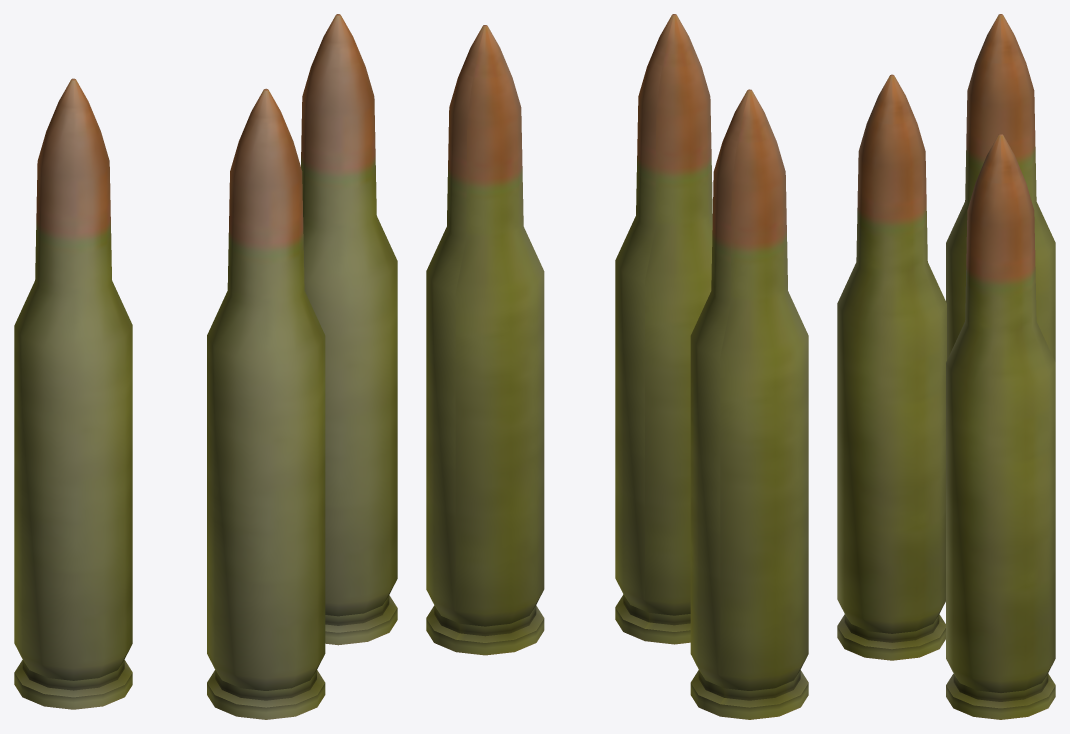
The model's file is bullet_pickup.fbx.
3 renders of one model, left to right at view 1: azimuth 30°, elevation 25°; view 2: azimuth 150°, elevation 25°; view 3: azimuth 270°, elevation 25°, orthographic. The views are drawn at different scales.
Visible parts, largest first — view 1: polySurface1; view 2: polySurface1; view 3: polySurface1.
Boxes of the visible parts, x1,y1,x2,y2 form: polySurface1: (14, 14, 397, 719); polySurface1: (426, 14, 808, 719); polySurface1: (837, 14, 1055, 719).
Bounding box in the file's own units: 3.39 × 5.34 × 1.88.
1 material, 1 textured.
